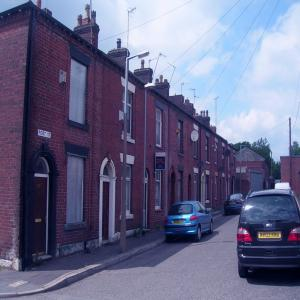Vehicle-registration-plate: (259, 230, 283, 240)
